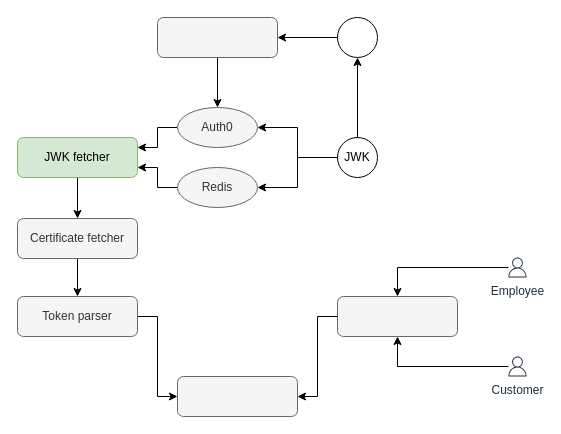
Image size: 561x434. Some labels were removed from this diagram. The shapes that lost their labels are listed below. From the top down, each one's centre as x and y in pixels, then its label:
point (217, 37): JWKs fetcher
point (357, 37): JWKs
point (397, 316): Token converter
point (237, 396): Service
